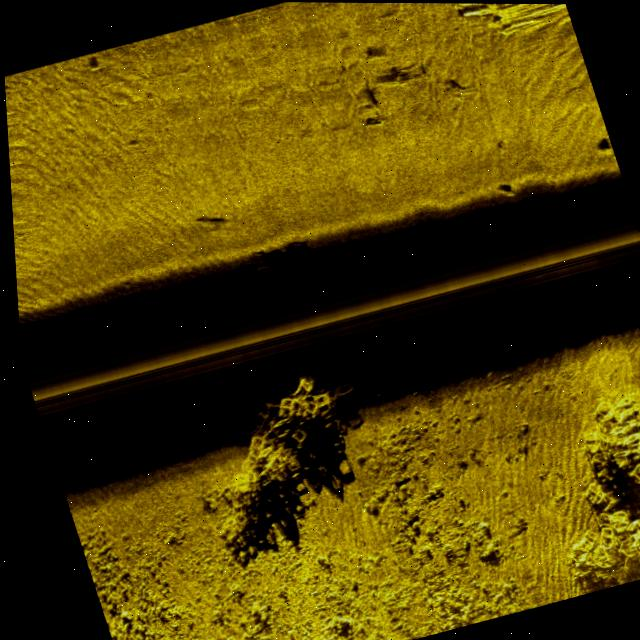artificial reef: (174, 356, 405, 554), (502, 382, 640, 597), (216, 238, 331, 309)
